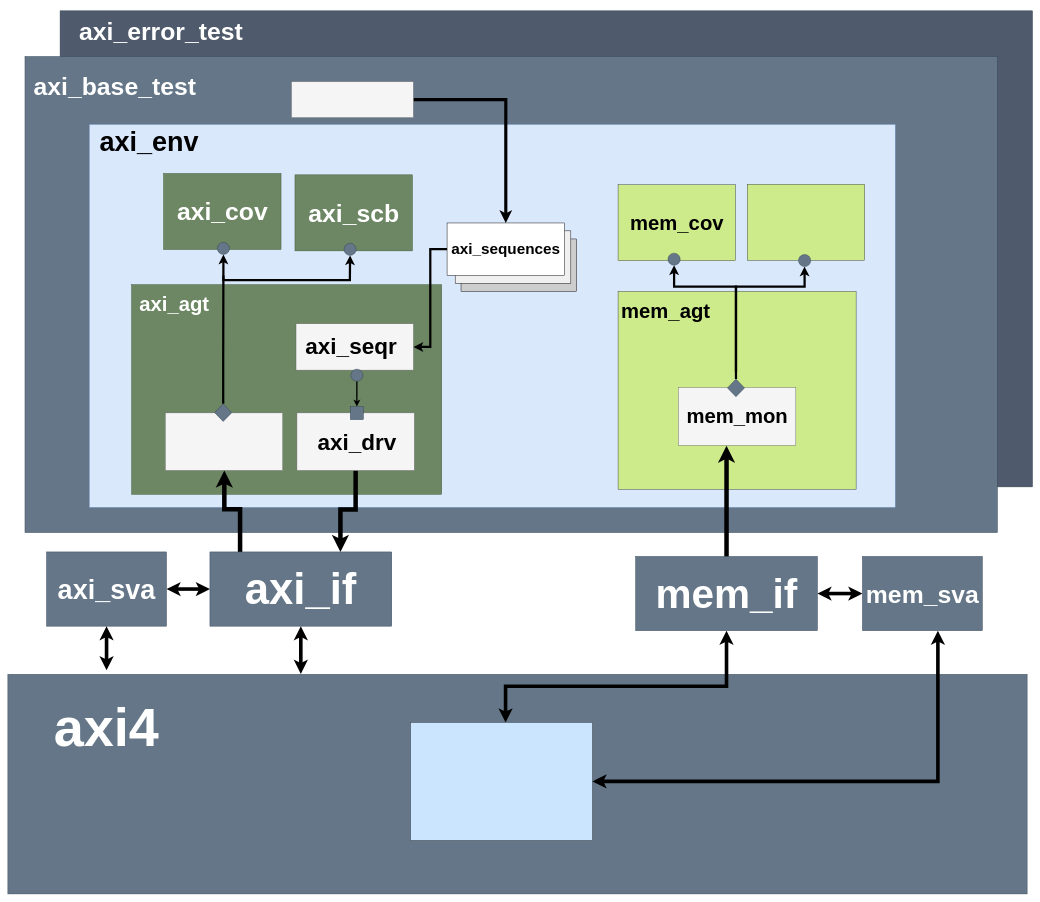
This 1040x902 diagram has some shape labels left out. The shapes that lost their labels are listed below. From the top down, each one's centre as x and y in pixels, then its label:
At (x=352, y=99): "axi_transaction".
At (x=806, y=222): "mem_scb".
At (x=224, y=441): "axi_mon".
At (x=501, y=781): "axi4_memory".
